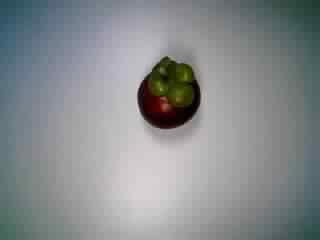mangosteen: (127, 51, 211, 132)
